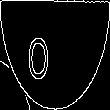O_N: (44, 29, 66, 81)
